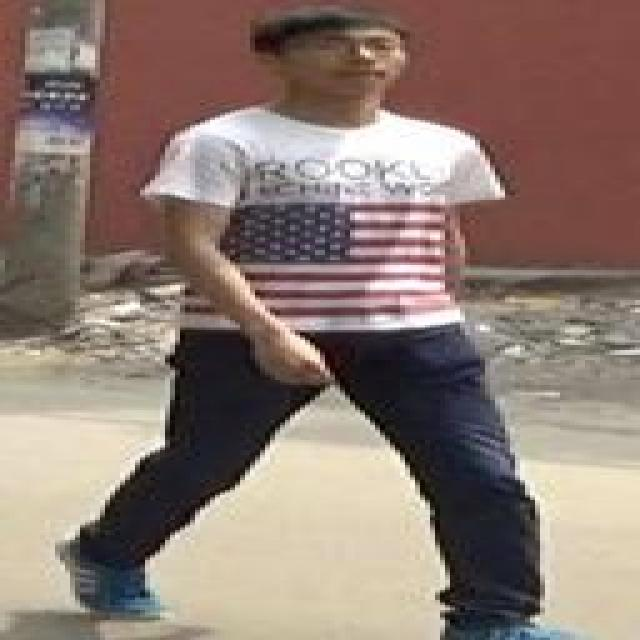adult: (91, 4, 551, 637)
